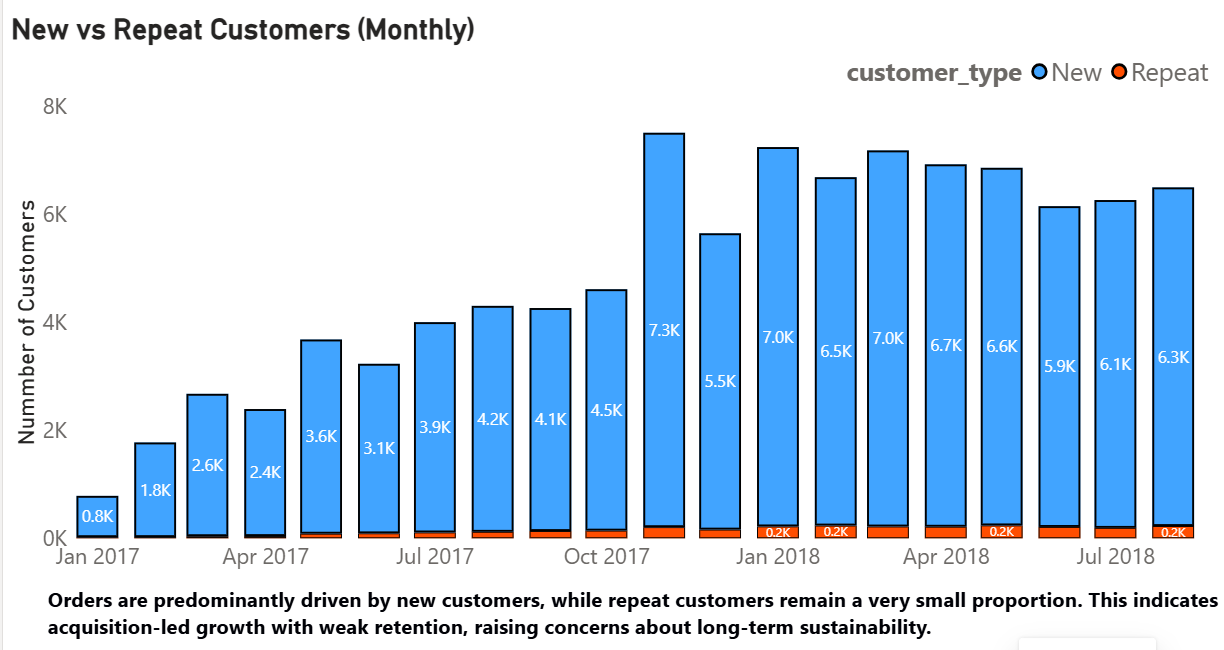

The dashboard page shown, as its layout file describes it:
{"tool":"powerbi","page":{"name":"New vs Repeat Customers","canvas":[1280,720],"ordinal":3},"visuals":[{"type":"columnChart","title":"New vs Repeat Customers (Monthly)","fields":{"Y":["Sum(olist_new_vs_repeat.users)"],"Series":["olist_new_vs_repeat.customer_type"],"Category":["olist_new_vs_repeat.month"]},"box":[4,26,1269.8,593.9],"z":0},{"type":"textbox","box":[42,619.9,1237.8,76],"z":1000}]}

Visuals, with their boxes on the page's 1280x720 design canvas (x1, y1, x2, y2). These are canvas units, not pixel positions in the 1224x650 screenshot, which may show the page scaled, cropped or inside an application window:
"New vs Repeat Customers (Monthly)" columnChart: 4,26,1274,620
textbox: 42,620,1280,696
